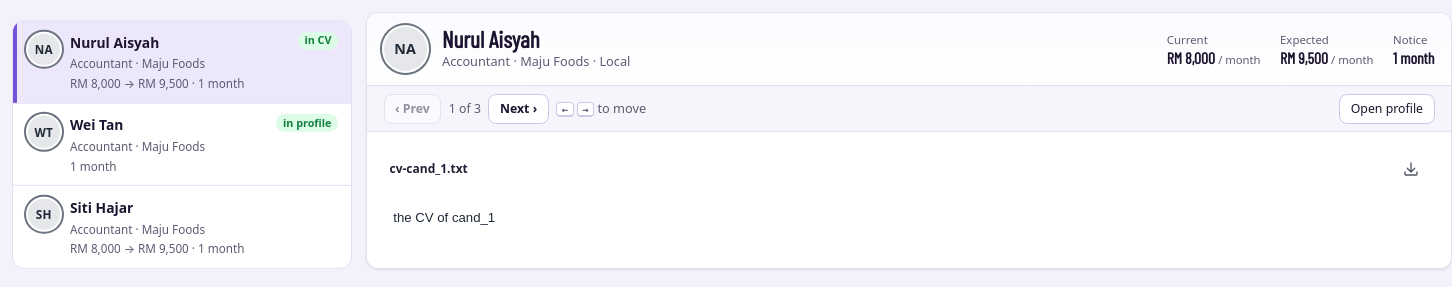
Test: reading search results as resumes › moves with Next, Prev, the arrow keys and a click, and marks those read
Expected: the text "the CV of cand_1" is shown, [390, 200, 1428, 236]
Step 1. Click the button "Next ›" → (519, 109), box [488, 94, 549, 124]
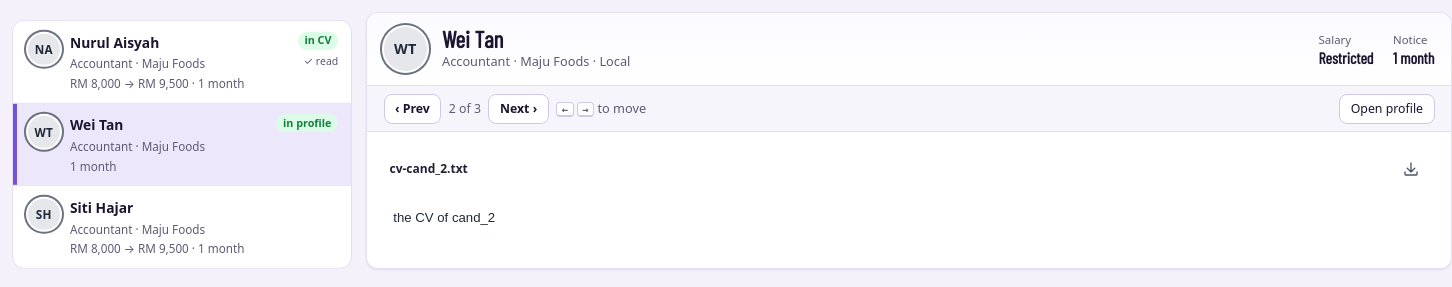
Now the text "the CV of cand_2" is shown, box [390, 200, 1428, 236]
Now the message reads "2 of 3", box [449, 99, 481, 118]
Step 2. Press ArrowRight
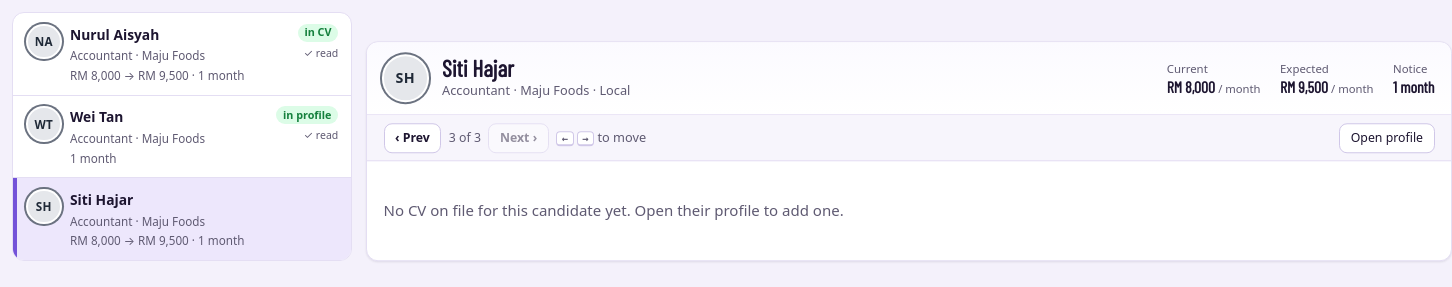
Now the text "No CV on file for this candidate yet" is shown, box [384, 200, 844, 220]
Now the button "Next ›" is disabled, box [488, 123, 549, 153]
Step 3. Press ArrowLeft
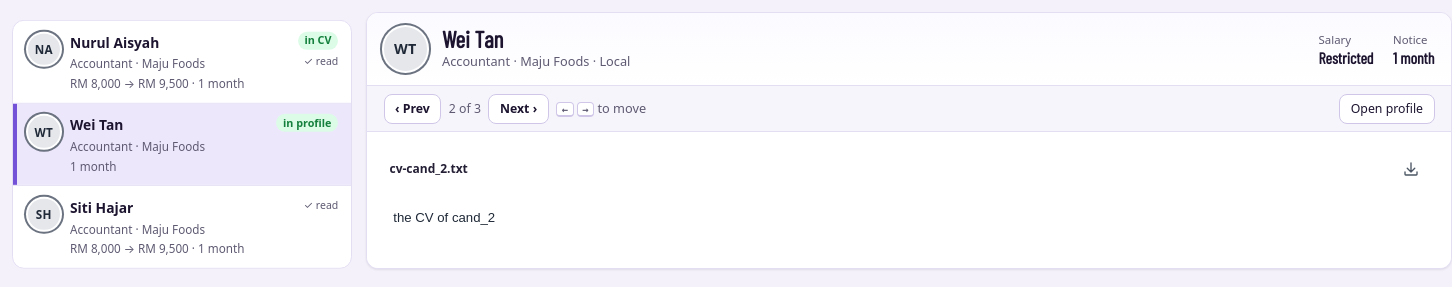
Now the text "the CV of cand_2" is shown, box [390, 200, 1428, 236]
Step 4. Click the button "‹ Prev" → (412, 109), box [384, 94, 441, 124]
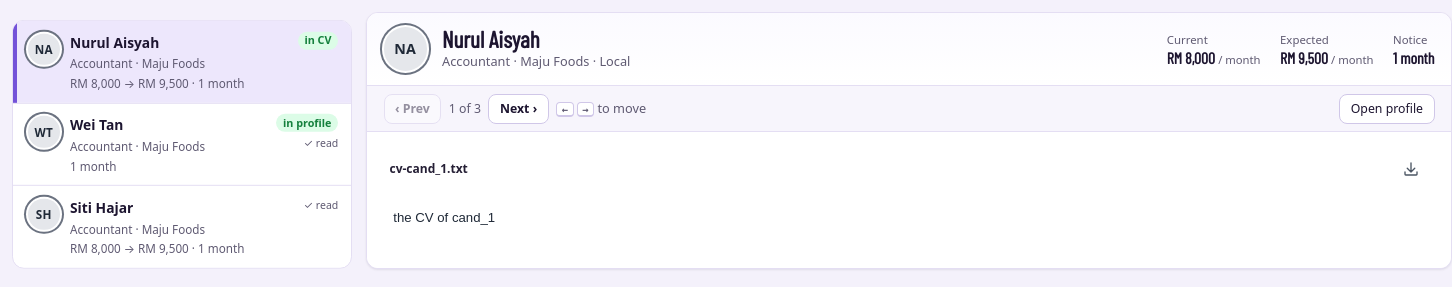
Now the text "the CV of cand_1" is shown, box [390, 200, 1428, 236]
Step 5. Click the button "Siti Hajar" → (182, 227), box [13, 186, 351, 268]
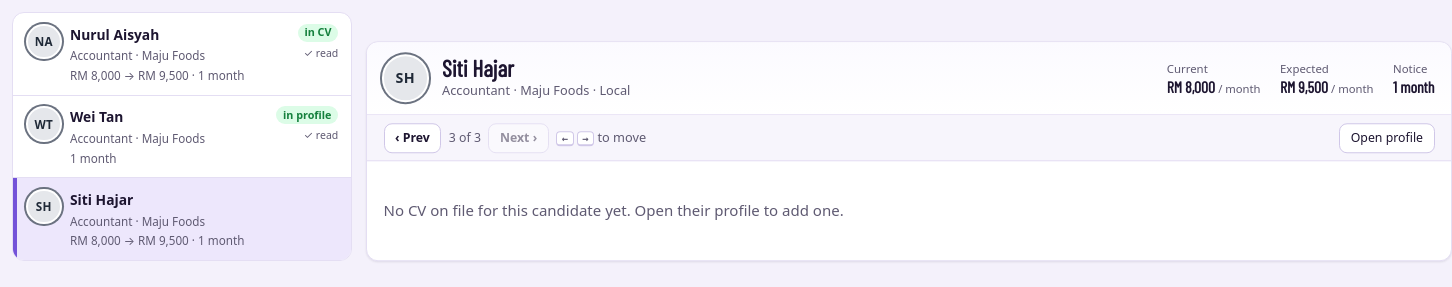
Now the element named "Resume of Siti Hajar" is shown, box [366, 41, 1451, 261]
